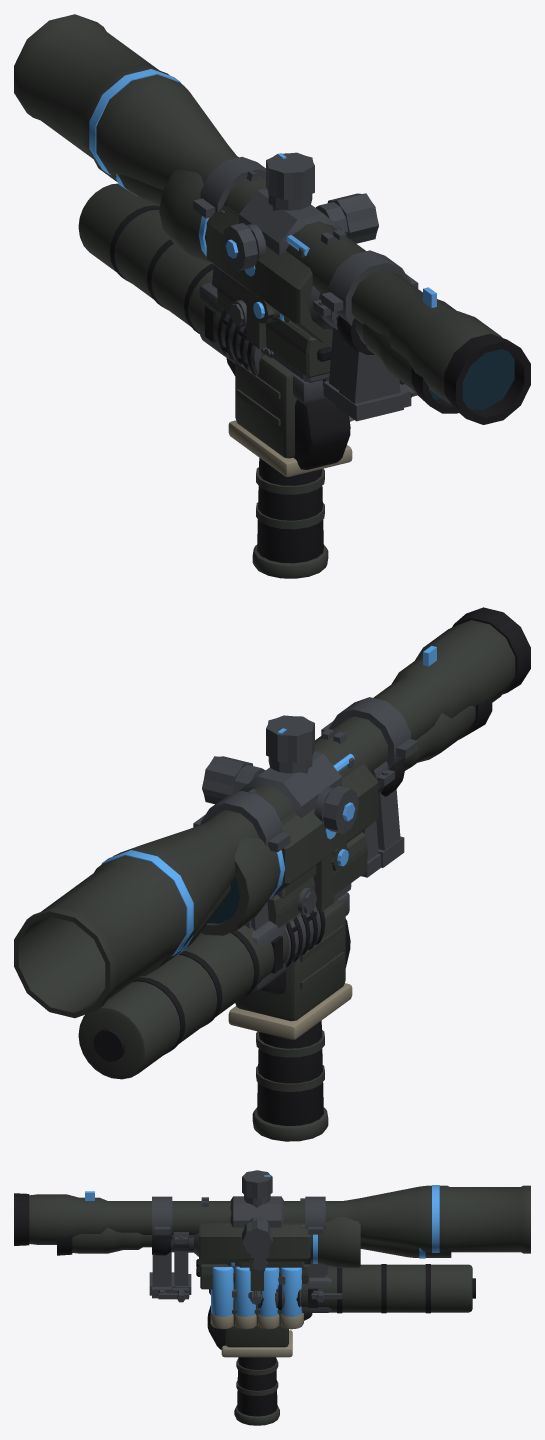
File: armes_acc.glb
3 renders of one model, top to bottom at view 1: azimuth 30°, elevation 25°; view 2: azimuth 150°, elevation 25°; view 3: azimuth 270°, elevation 25°, orthographic. The views are drawn at different scales.
Visible parts, largest first — view 1: att_scope8, att_acog, att_silencieux, att_verticale, att_etendu, att_scope4, att_angulaire, att_holo, att_choke, att_reddot, att_frein; view 2: att_scope8, att_silencieux, att_acog, att_etendu, att_verticale, att_scope4, att_holo, att_choke, att_frein, att_reddot, att_angulaire; view 3: att_scope8, att_silencieux, att_acog, att_cartouches, att_scope4, att_verticale, att_etendu, att_holo, att_frein, att_reddot, att_angulaire.
Part boxes in pixels (<box>): att_scope8: <box>14,14,530,424</box>; att_acog: <box>159,157,374,381</box>; att_silencieux: <box>78,183,265,357</box>; att_verticale: <box>252,458,328,578</box>; att_etendu: <box>228,355,352,476</box>; att_scope4: <box>95,162,458,413</box>; att_angulaire: <box>226,358,350,469</box>; att_holo: <box>217,206,332,382</box>; att_choke: <box>217,309,261,375</box>; att_reddot: <box>246,288,289,349</box>; att_frein: <box>199,283,248,367</box>; att_scope8: <box>14,607,530,1018</box>; att_silencieux: <box>78,925,288,1079</box>; att_acog: <box>200,729,405,935</box>; att_etendu: <box>228,900,352,1039</box>; att_verticale: <box>252,1020,328,1141</box>; att_scope4: <box>141,696,492,975</box>; att_holo: <box>267,812,367,927</box>; att_choke: <box>285,906,325,967</box>; att_frein: <box>252,911,316,990</box>; att_reddot: <box>313,843,348,911</box>; att_angulaire: <box>259,892,350,994</box>; att_scope8: <box>14,1170,530,1299</box>; att_silencieux: <box>301,1264,475,1313</box>; att_acog: <box>152,1197,360,1304</box>; att_cartouches: <box>210,1267,303,1329</box>; att_scope4: <box>57,1204,451,1302</box>; att_verticale: <box>234,1357,279,1425</box>; att_etendu: <box>221,1297,292,1357</box>; att_holo: <box>196,1222,309,1298</box>; att_frein: <box>276,1277,331,1312</box>; att_reddot: <box>227,1259,267,1304</box>; att_angulaire: <box>207,1305,312,1349</box>.
Size of the model in its own units: 0.0743 by 0.2102 by 0.408.
